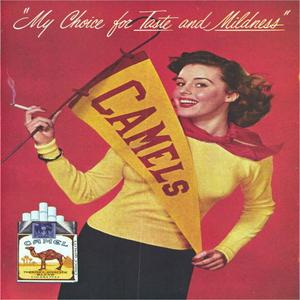cigarette: (9, 98, 48, 113)
